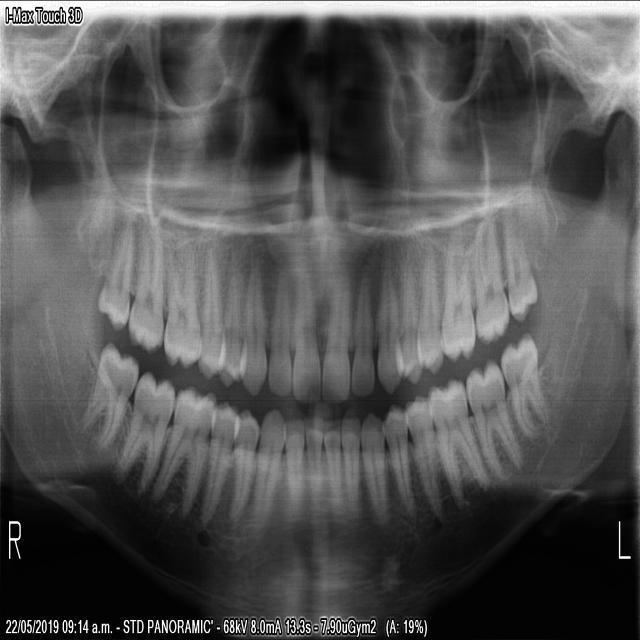LCD: (356, 404, 389, 532)
LCU: (373, 260, 404, 398)
LID: (319, 412, 343, 516), (337, 412, 360, 518)
LIU: (320, 271, 352, 407), (347, 273, 375, 401)
LMD: (424, 371, 490, 512), (462, 353, 526, 487), (499, 324, 552, 443)
LMU: (469, 209, 512, 351), (435, 228, 476, 364), (499, 200, 541, 327)
LPMD: (401, 386, 443, 517), (378, 397, 415, 514)
LPMU: (392, 253, 425, 388), (414, 240, 443, 378)
RCD: (247, 399, 287, 535)
RCU: (236, 250, 268, 401)
RID: (281, 410, 304, 521), (301, 409, 324, 508)
RIU: (291, 258, 322, 409), (265, 262, 292, 399)
RMD: (148, 379, 218, 531), (113, 360, 179, 500), (72, 331, 140, 458)
RMU: (158, 231, 202, 372), (91, 211, 134, 340), (126, 218, 165, 359)
RPMD: (195, 392, 241, 527), (226, 402, 261, 525)
RPMU: (214, 250, 247, 390), (194, 242, 226, 386)
